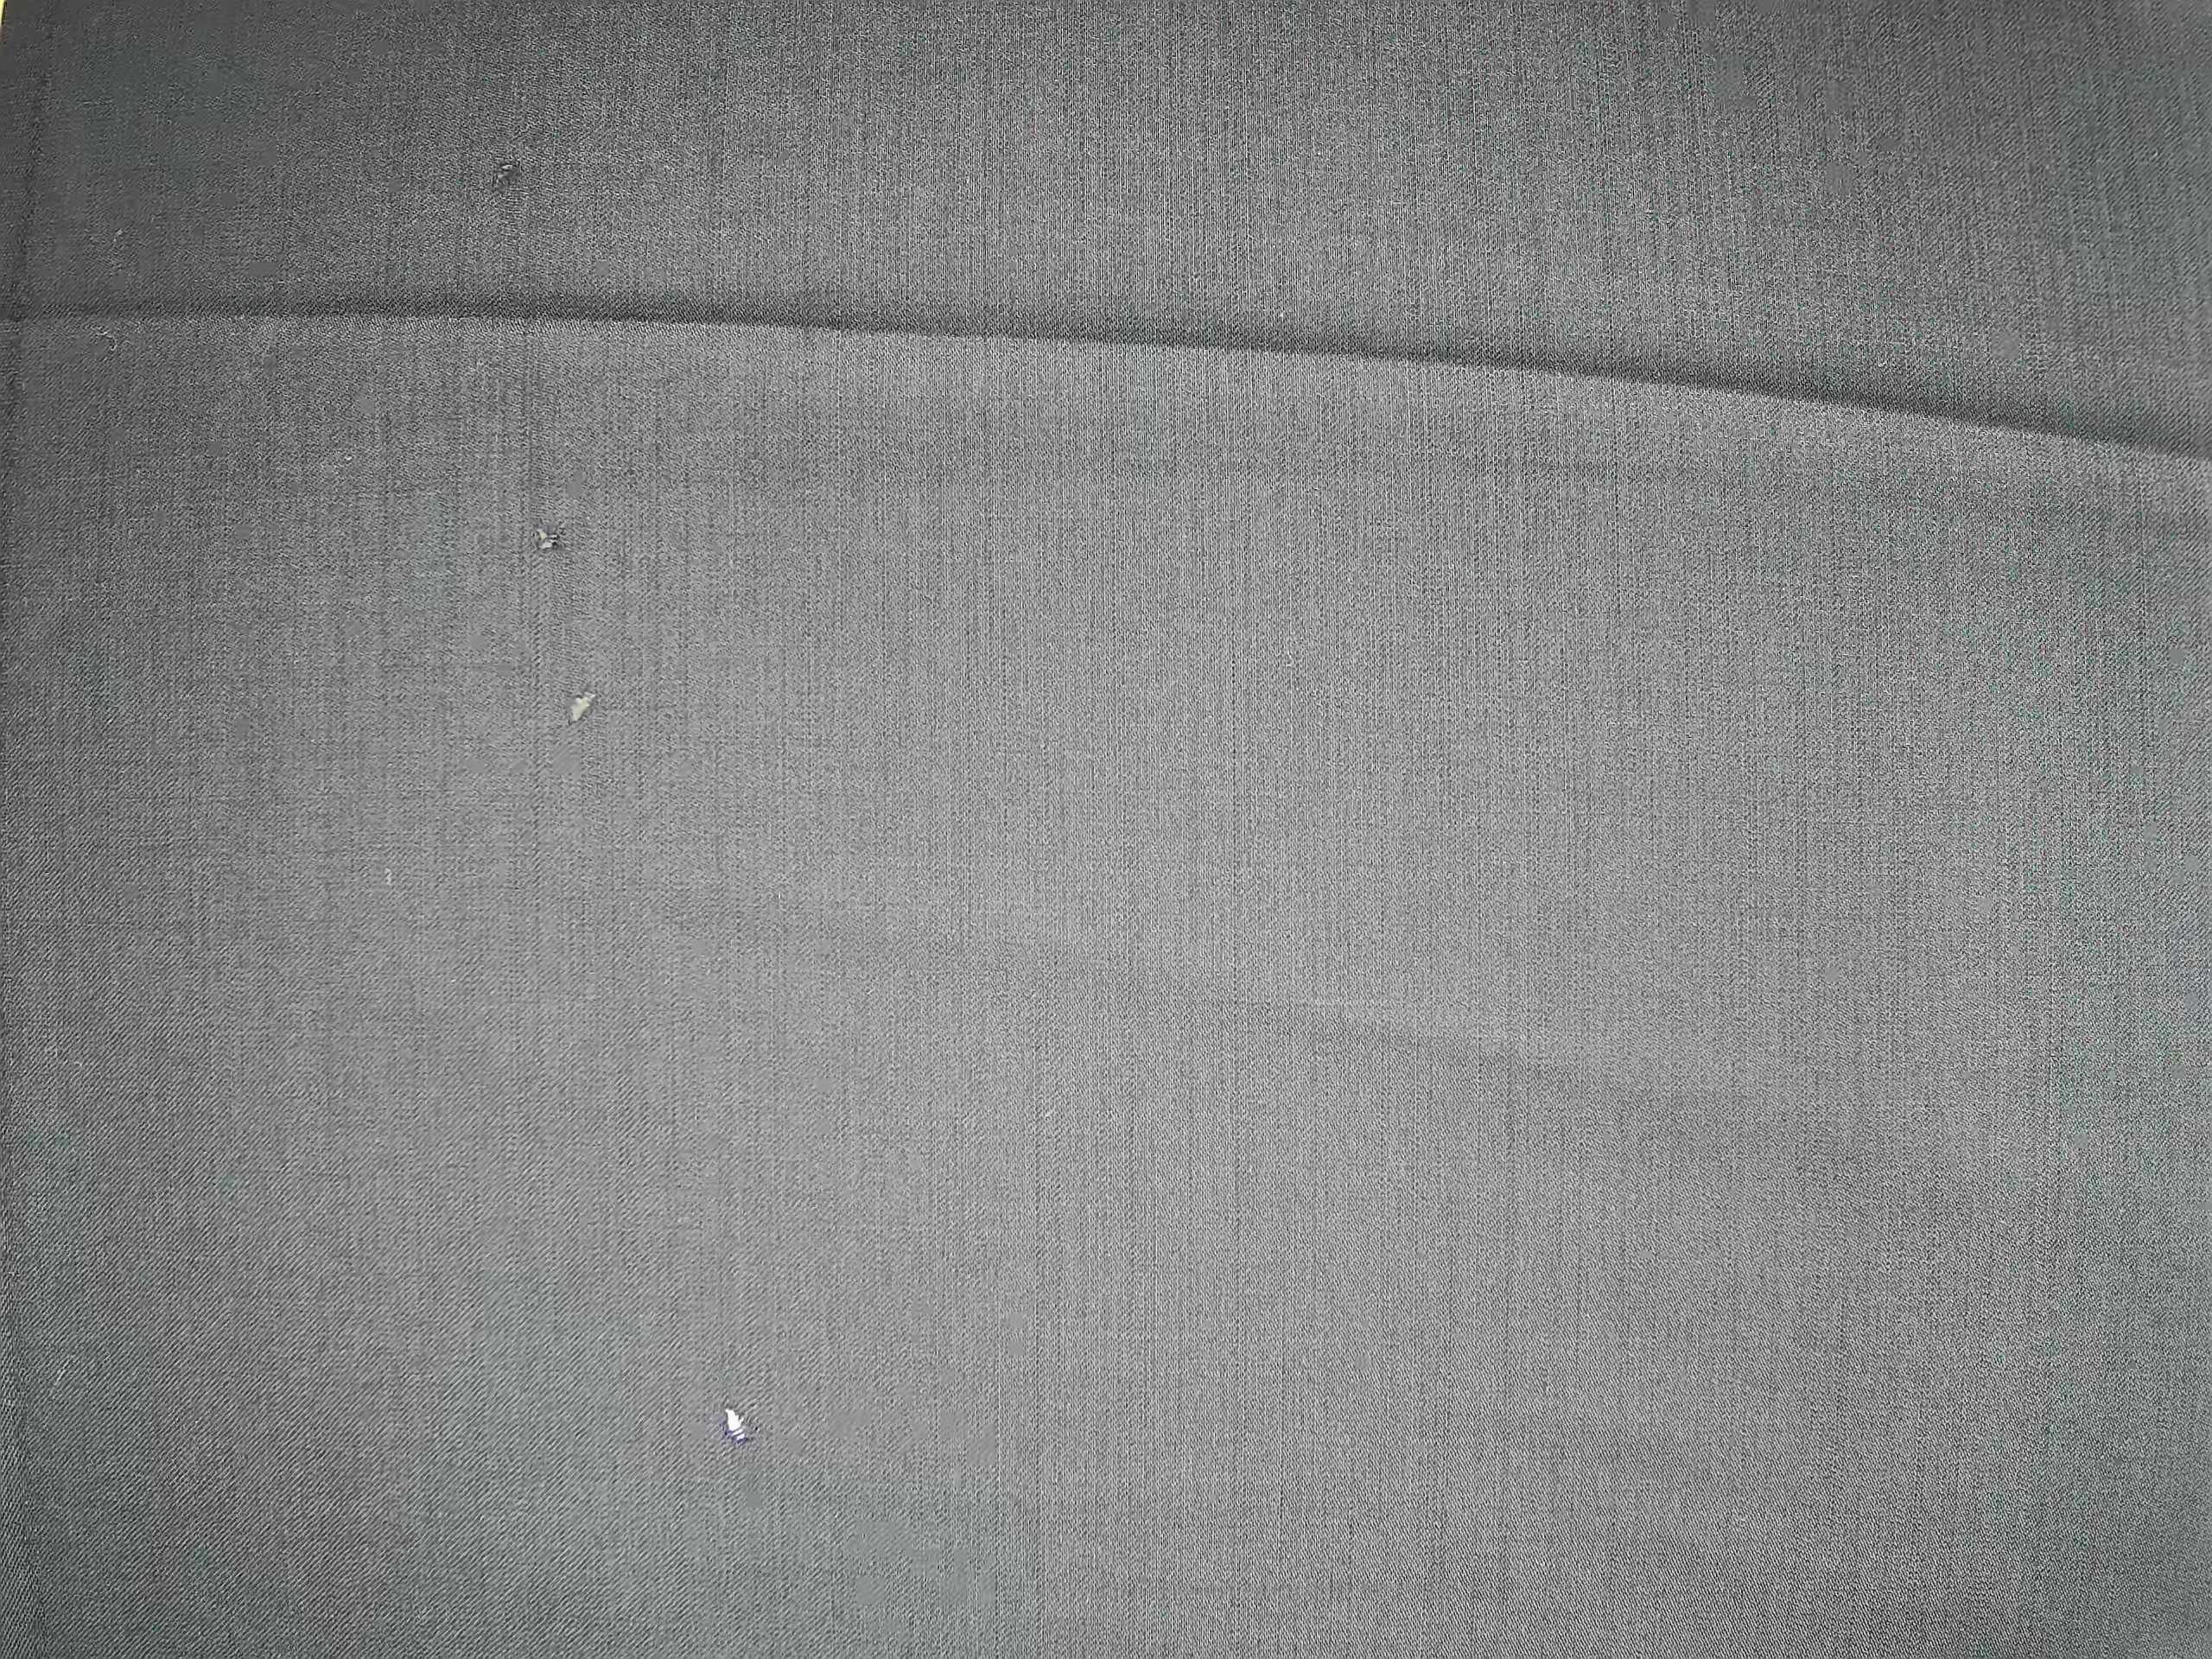rubbing-hole: (481, 148, 533, 202), (526, 518, 577, 566), (557, 683, 608, 730)
